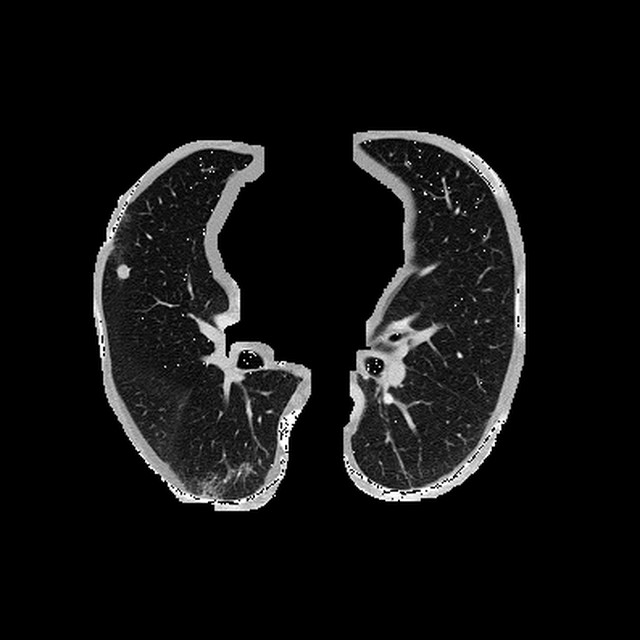PN: (116, 264, 129, 277)
